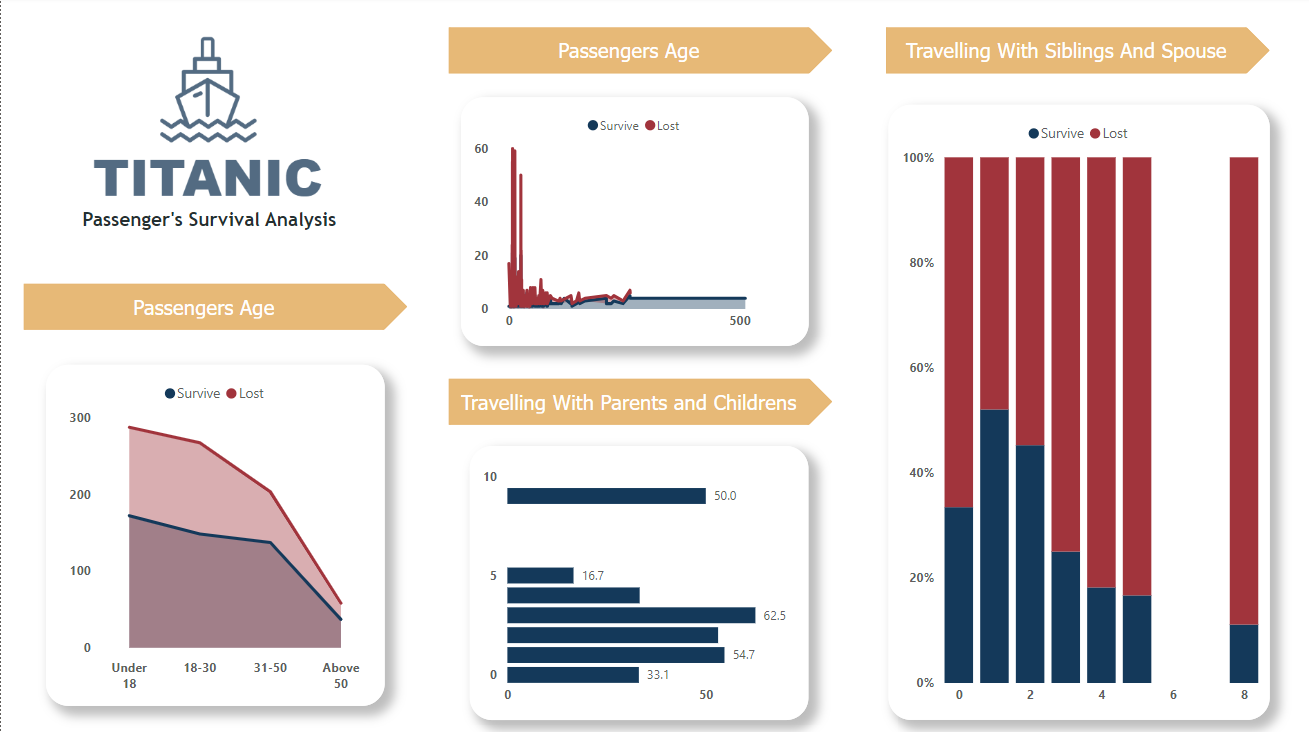

What the dashboard file says about the page in this screenshot:
{"tool":"powerbi","page":{"name":"Page 2","canvas":[1280,720],"ordinal":2},"visuals":[{"type":"image","box":[31.8,0,333.7,243.3],"z":0},{"type":"textbox","box":[74.6,202.9,270.2,40.3],"z":1},{"type":"hundredPercentStackedColumnChart","fields":{"Category":["Titanic.SibSp"],"Y":["Titanic.Survive","Titanic.Lost"]},"box":[867.9,106.3,372.8,601.4],"z":2},{"type":"shape","box":[865.5,30.6,375.3,45.2],"z":3},{"type":"areaChart","fields":{"Category":["Titanic.Age Group"],"Y":["Titanic.Survive","Titanic.Lost"]},"box":[44,360.6,331.3,333.7],"z":4},{"type":"shape","box":[22,281.2,375.3,45.2],"z":5},{"type":"shape","box":[437.6,374.1,375.3,45.2],"z":6},{"type":"clusteredBarChart","fields":{"Category":["Titanic.Parch"],"Y":["Titanic.Survival rate"]},"box":[458.4,440.1,331.3,267.7],"z":7},{"type":"stackedAreaChart","fields":{"Category":["Titanic.Fare"],"Y":["Titanic.Survive","Titanic.Lost"]},"box":[449.8,99,339.8,243.3],"z":8},{"type":"shape","box":[437.6,30.6,375.3,45.2],"z":9}]}

Visuals, with their boxes in screenshot pixels (x1, y1, x2, y2), scaled from the page's 1280x720 canvas onto the 1309x732 screenshot:
image: locate(33, 0, 374, 247)
textbox: locate(76, 206, 353, 247)
hundredPercentStackedColumnChart - Titanic.SibSp x Titanic.Survive: locate(888, 108, 1269, 719)
shape: locate(885, 31, 1269, 77)
areaChart - Titanic.Age Group x Titanic.Survive: locate(45, 367, 384, 706)
shape: locate(22, 286, 406, 332)
shape: locate(448, 380, 831, 426)
clusteredBarChart - Titanic.Parch x Titanic.Survival rate: locate(469, 447, 808, 720)
stackedAreaChart - Titanic.Fare x Titanic.Survive: locate(460, 101, 807, 348)
shape: locate(448, 31, 831, 77)
